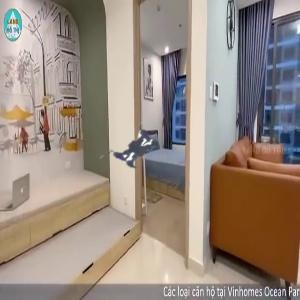drone: (80, 92, 191, 203)
